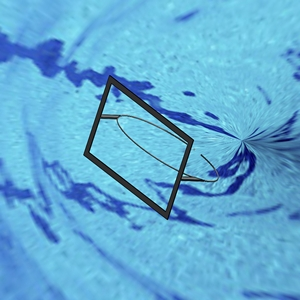circle: (83, 71, 194, 219)
